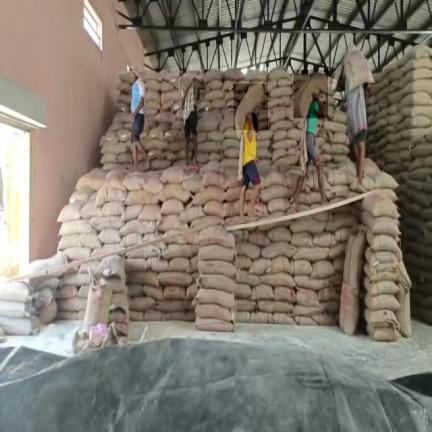Zone-Counting: (336, 44, 373, 190), (290, 80, 328, 209), (236, 84, 263, 218)
